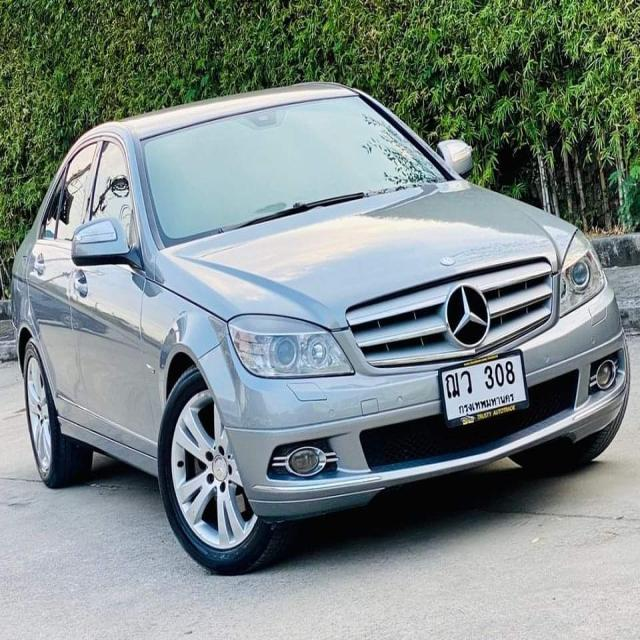license_plate: (434, 347, 534, 431)
